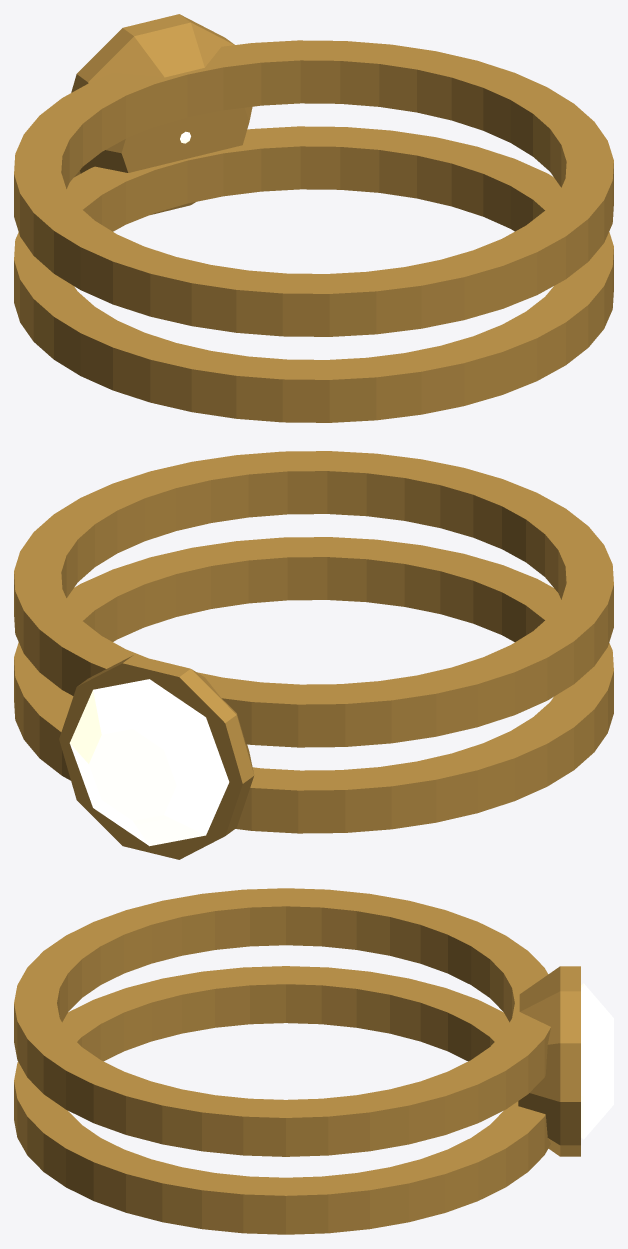
File: ring_resonant.glb
3 renders of one model, top to bottom at view 1: azimuth 30°, elevation 25°; view 2: azimuth 150°, elevation 25°; view 3: azimuth 270°, elevation 25°, orthographic. The views are drawn at different scales.
Parts seen in each view (by area): view 1: Ring_Resonant_Brass; view 2: Ring_Resonant_Brass, Ring_Resonant_Gem_pale; view 3: Ring_Resonant_Brass, Ring_Resonant_Gem_pale.
Boxes of the visible parts, x1=… form: Ring_Resonant_Brass: x1=14, y1=14, x2=613, y2=422; Ring_Resonant_Brass: x1=14, y1=451, x2=613, y2=859; Ring_Resonant_Gem_pale: x1=69, y1=679, x2=229, y2=846; Ring_Resonant_Brass: x1=14, y1=888, x2=580, y2=1234; Ring_Resonant_Gem_pale: x1=581, y1=983, x2=613, y2=1139.
Size of the model in its own units: 0.0228 by 0.00766 by 0.0252.
